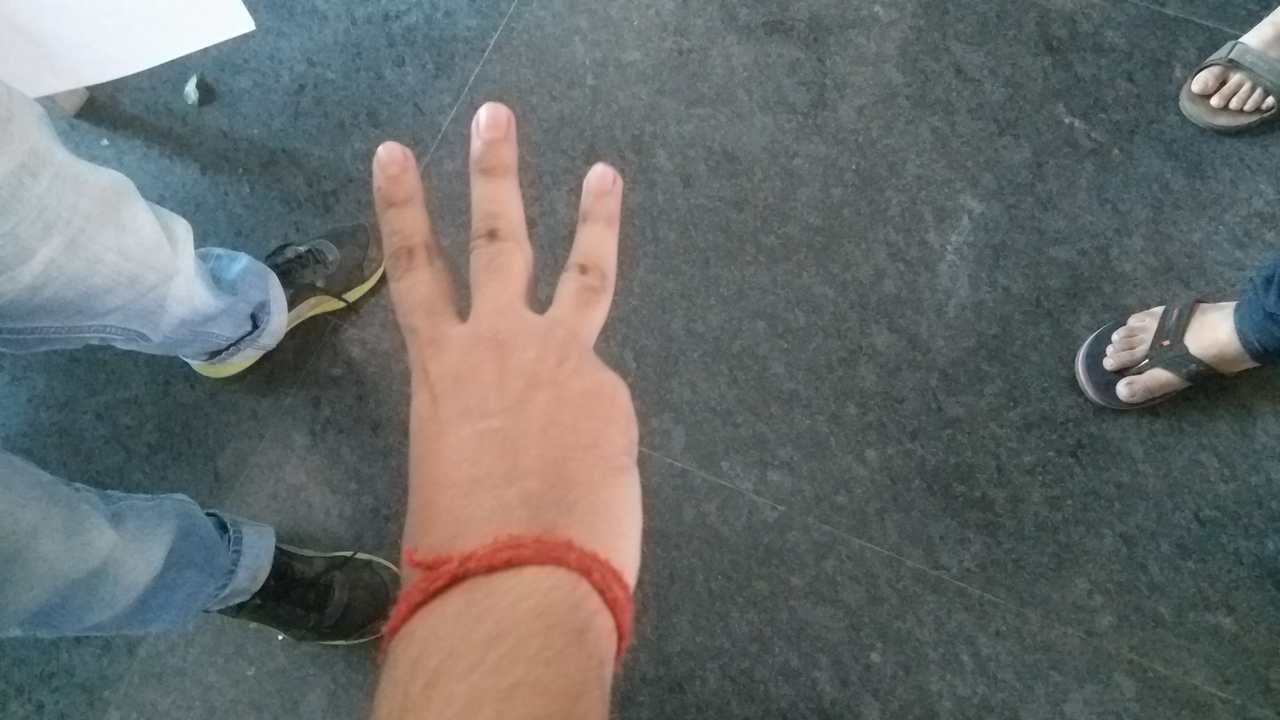fingertip: (360, 136, 422, 188), (570, 150, 628, 204), (458, 100, 518, 146)
